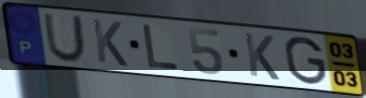5: (185, 26, 226, 76)
G: (283, 35, 329, 86)
K: (241, 31, 282, 83), (89, 17, 130, 69)
L: (140, 23, 182, 72)
U: (41, 12, 88, 65)
